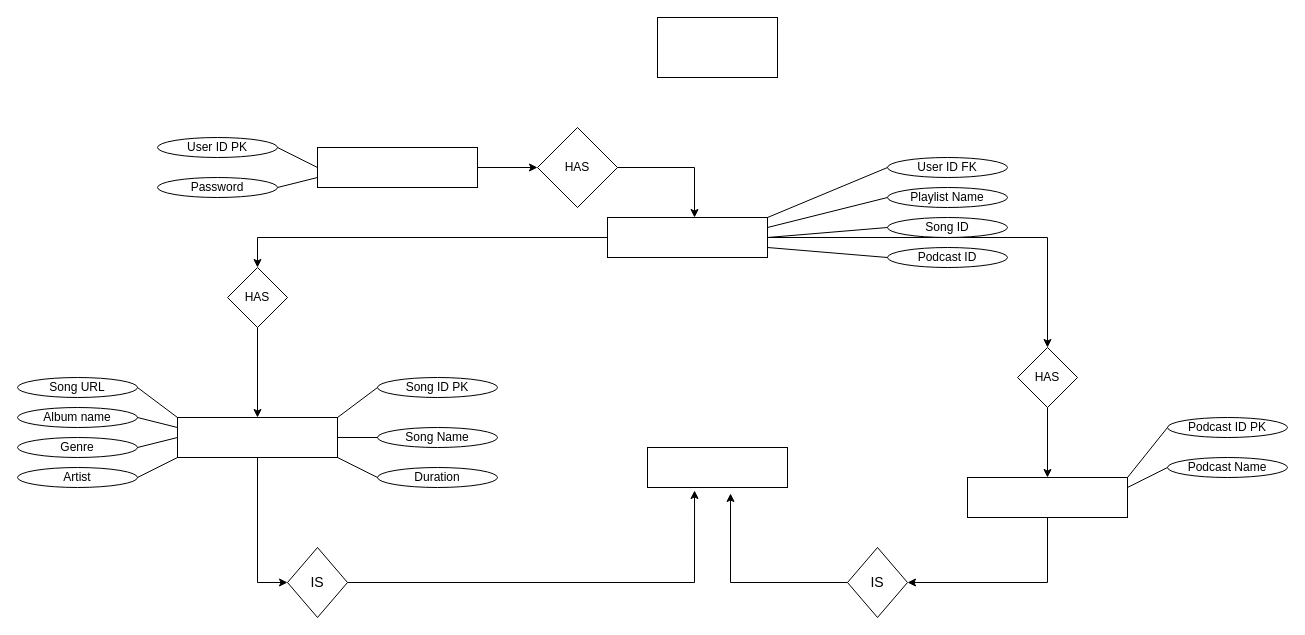
The diagram is 1305 pixels wide and 635 high, and some of its shapes have lost their labels. Here are the shapes that lost their labels. From the top down, the centre of each, then its label:
the point at 717,47: JUKEBOX
the point at 397,167: USER
the point at 687,237: PLAYLIST
the point at 257,437: SONG
the point at 717,467: AUDIO
the point at 1047,497: PODCAST
